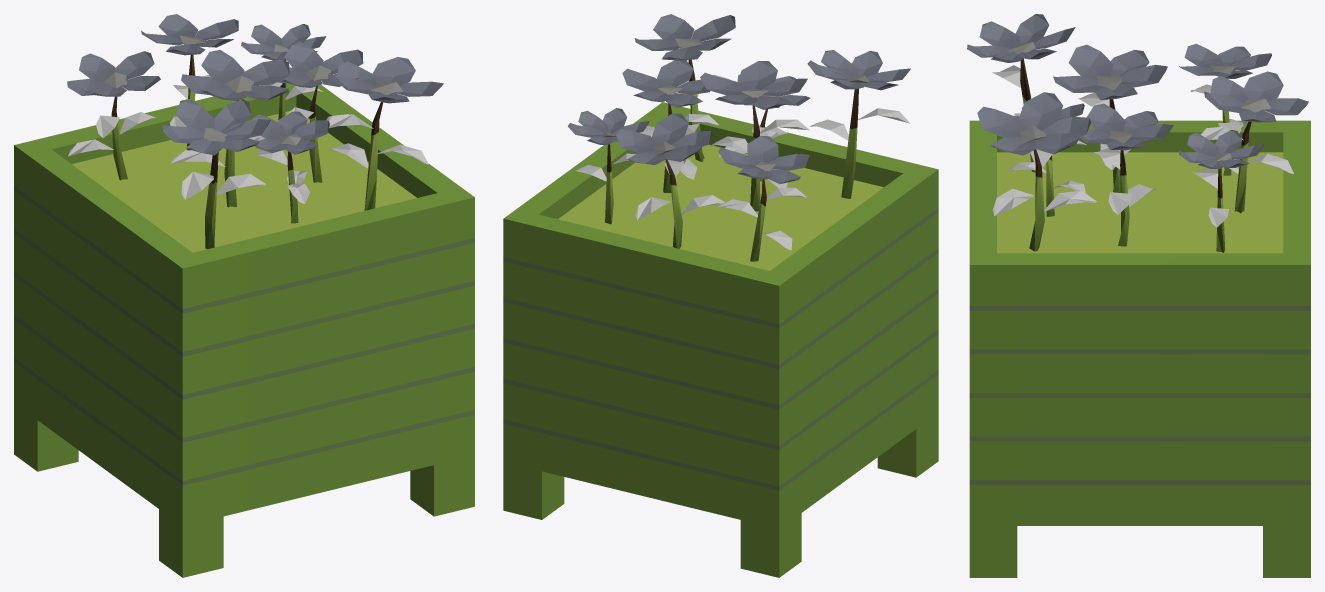
Rendered from Pot_02.fbx.
3 renders of one model, left to right at view 1: azimuth 30°, elevation 25°; view 2: azimuth 150°, elevation 25°; view 3: azimuth 270°, elevation 25°, orthographic. The views are drawn at different scales.
Parts seen in each view (by area): view 1: Pot_02; view 2: Pot_02; view 3: Pot_02.
Boxes of the visible parts, bbox=[...] form: Pot_02: bbox=[14, 14, 474, 577]; Pot_02: bbox=[503, 14, 938, 577]; Pot_02: bbox=[967, 14, 1310, 577].
Size of the model in its own units: 0.5933 by 0.8313 by 0.5976.
